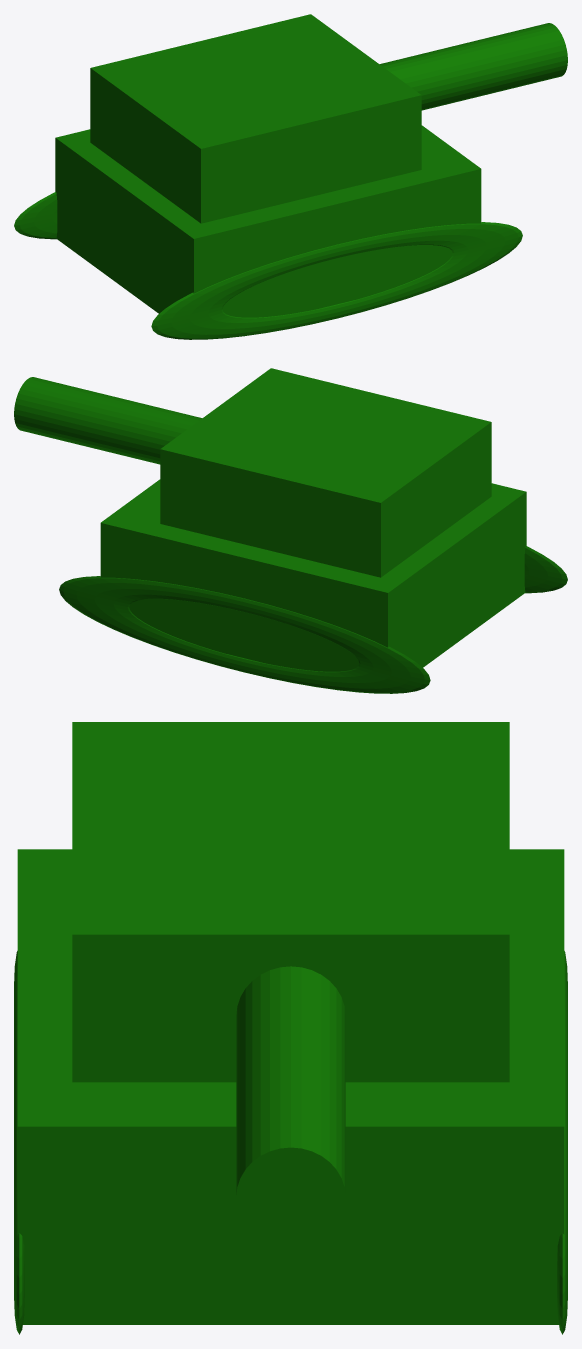
File: bdevil2_tank.fbx
3 views of the same model, one above another, from view 1: azimuth 30°, elevation 25°; view 2: azimuth 150°, elevation 25°; view 3: azimuth 270°, elevation 25° (orthographic). The views are drawn at different scales.
Parts seen in each view (by area): view 1: Top_Turret, Base_Body, Right_Track, Turret_Barrell, Left_Track; view 2: Top_Turret, Base_Body, Left_Track, Turret_Barrell, Right_Track; view 3: Top_Turret, Base_Body, Turret_Barrell, Left_Track, Right_Track.
Boxes of the visible parts, left/top/right/bottom form: Top_Turret: left=90, top=14, right=421, bottom=223; Base_Body: left=55, top=125, right=481, bottom=339; Right_Track: left=151, top=222, right=522, bottom=339; Turret_Barrell: left=379, top=23, right=567, bottom=110; Left_Track: left=14, top=192, right=57, bottom=239; Top_Turret: left=160, top=368, right=491, bottom=577; Base_Body: left=100, top=479, right=526, bottom=693; Left_Track: left=59, top=576, right=430, bottom=693; Turret_Barrell: left=14, top=377, right=202, bottom=464; Right_Track: left=524, top=546, right=567, bottom=593; Top_Turret: left=72, top=722, right=509, bottom=1082; Base_Body: left=17, top=849, right=564, bottom=1324; Turret_Barrell: left=236, top=966, right=345, bottom=1246; Left_Track: left=557, top=951, right=567, bottom=1334; Right_Track: left=14, top=951, right=24, bottom=1334.
Bounding box in the file's own units: 983 × 378 × 506.
